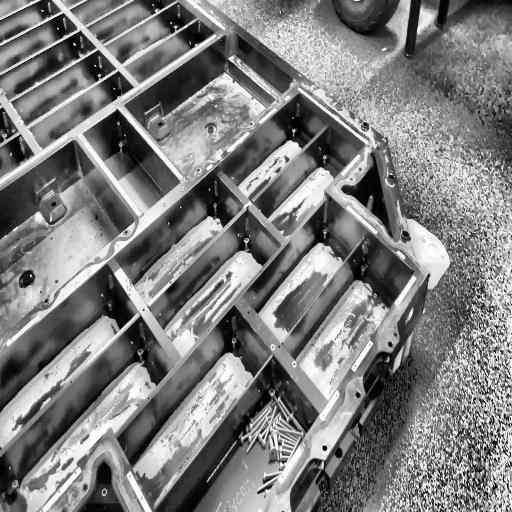b_casing: (0, 0, 432, 512)
